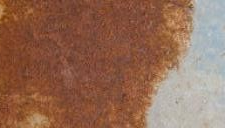Corrosion: (1, 1, 197, 128)
